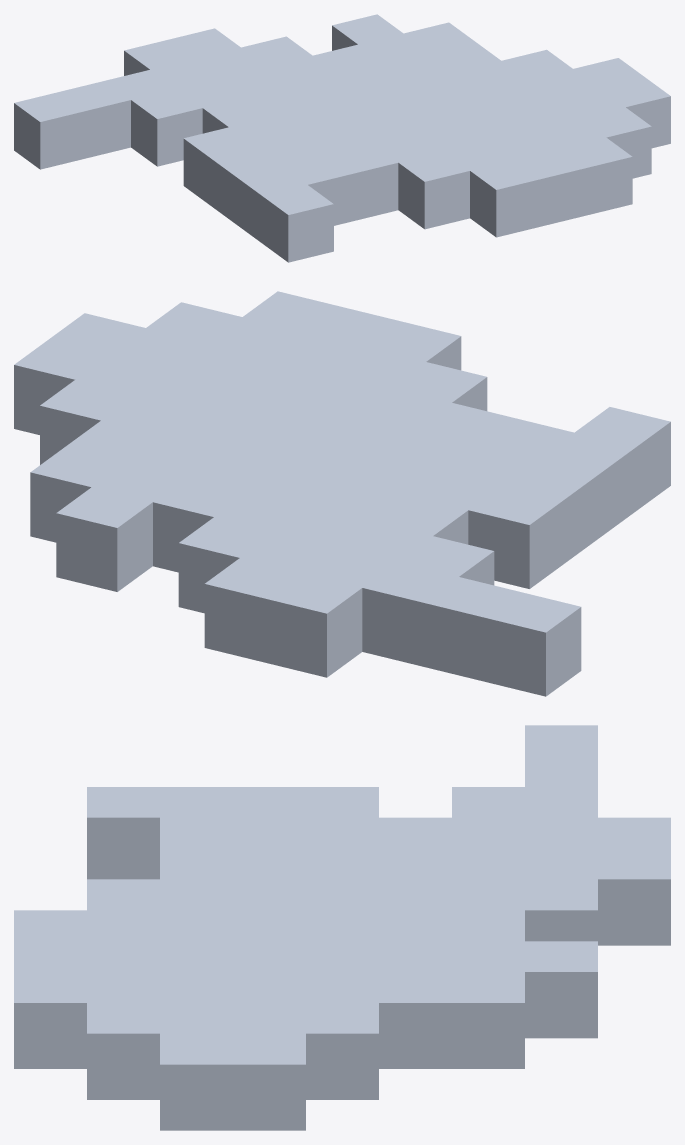
The model's file is nuvem3.fbx.
The picture shows the model from 3 angles, top to bottom: view 1: azimuth 30°, elevation 25°; view 2: azimuth 150°, elevation 25°; view 3: azimuth 270°, elevation 25°; orthographic projection. The views are drawn at different scales.
Visible parts, largest first — view 1: Cube.011; view 2: Cube.011; view 3: Cube.011.
Part boxes in pixels (x1,y1,x2,y2): Cube.011: (14, 14, 670, 262); Cube.011: (14, 291, 670, 696); Cube.011: (14, 725, 670, 1130).
Bounding box in the file's own units: 1100 × 100 × 900.
